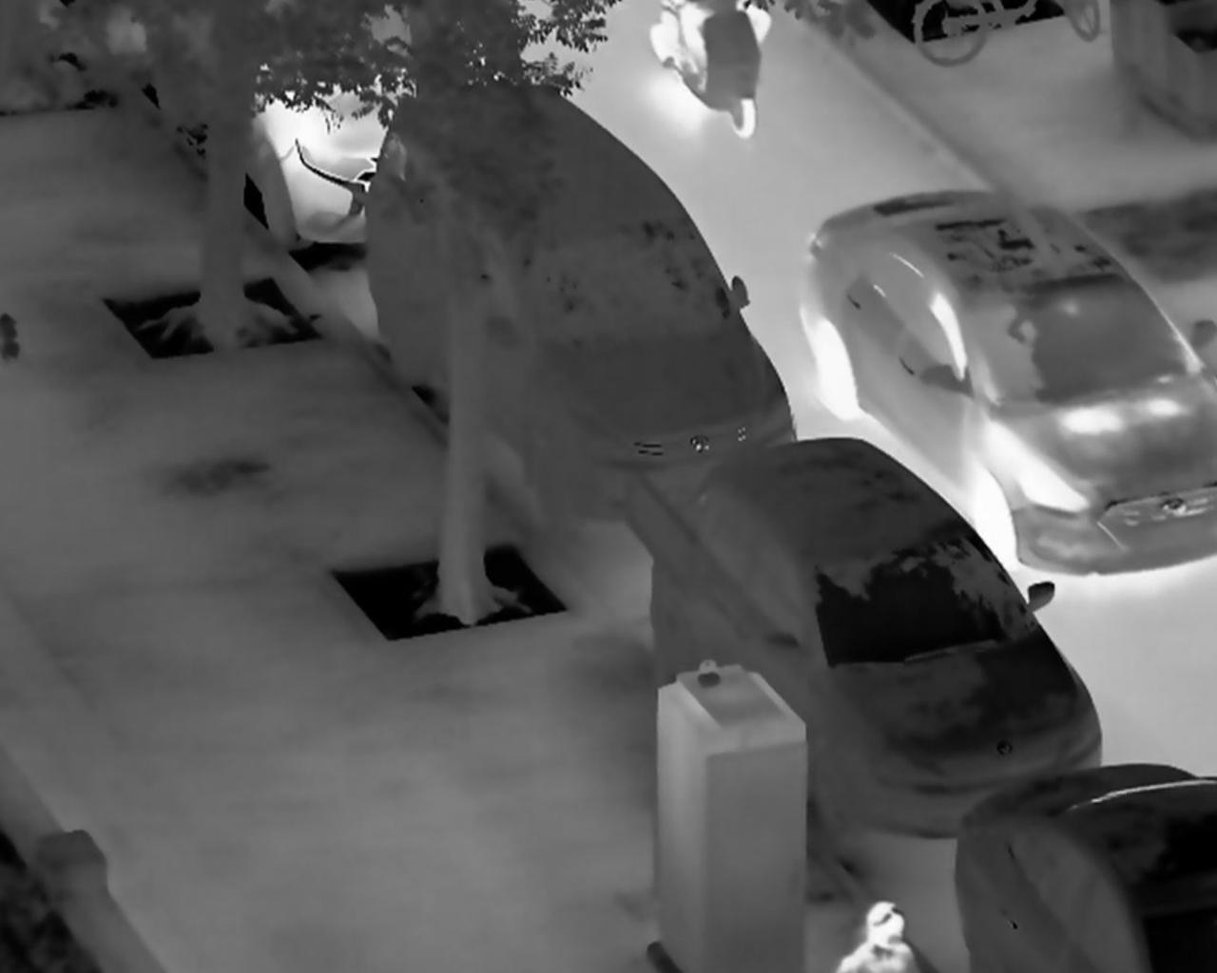person: (833, 896, 923, 973)
